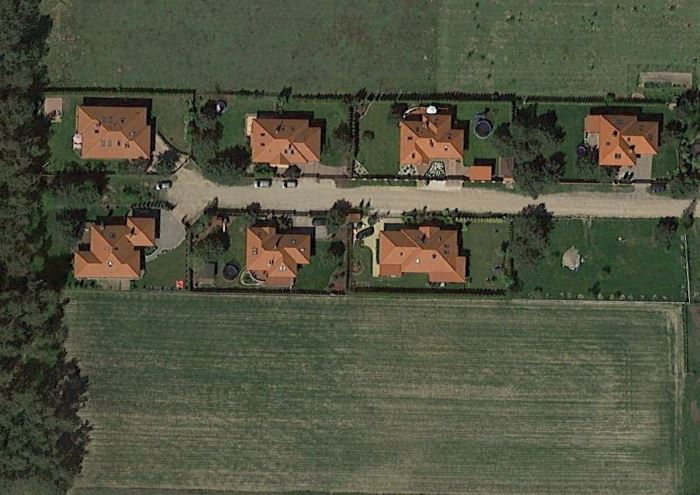family house: (374, 222, 473, 288), (71, 210, 161, 281), (72, 102, 160, 163), (395, 107, 468, 172), (583, 110, 662, 169), (246, 111, 324, 168), (244, 224, 315, 280)
